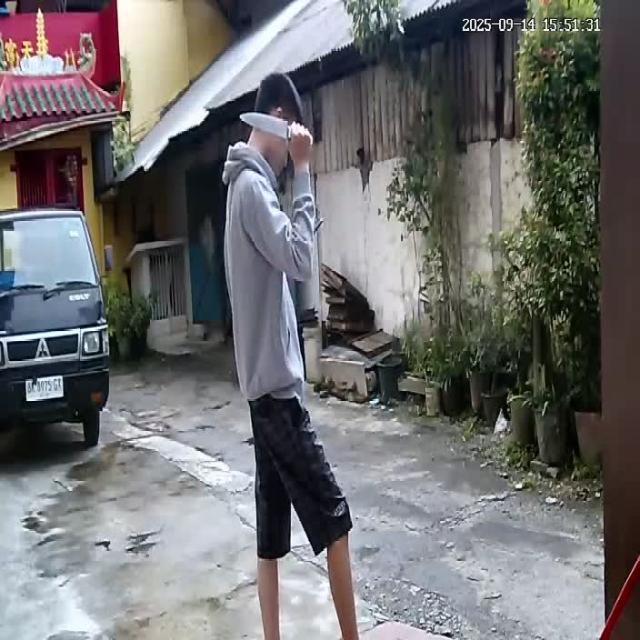senjata_tajam: (238, 109, 290, 143)
